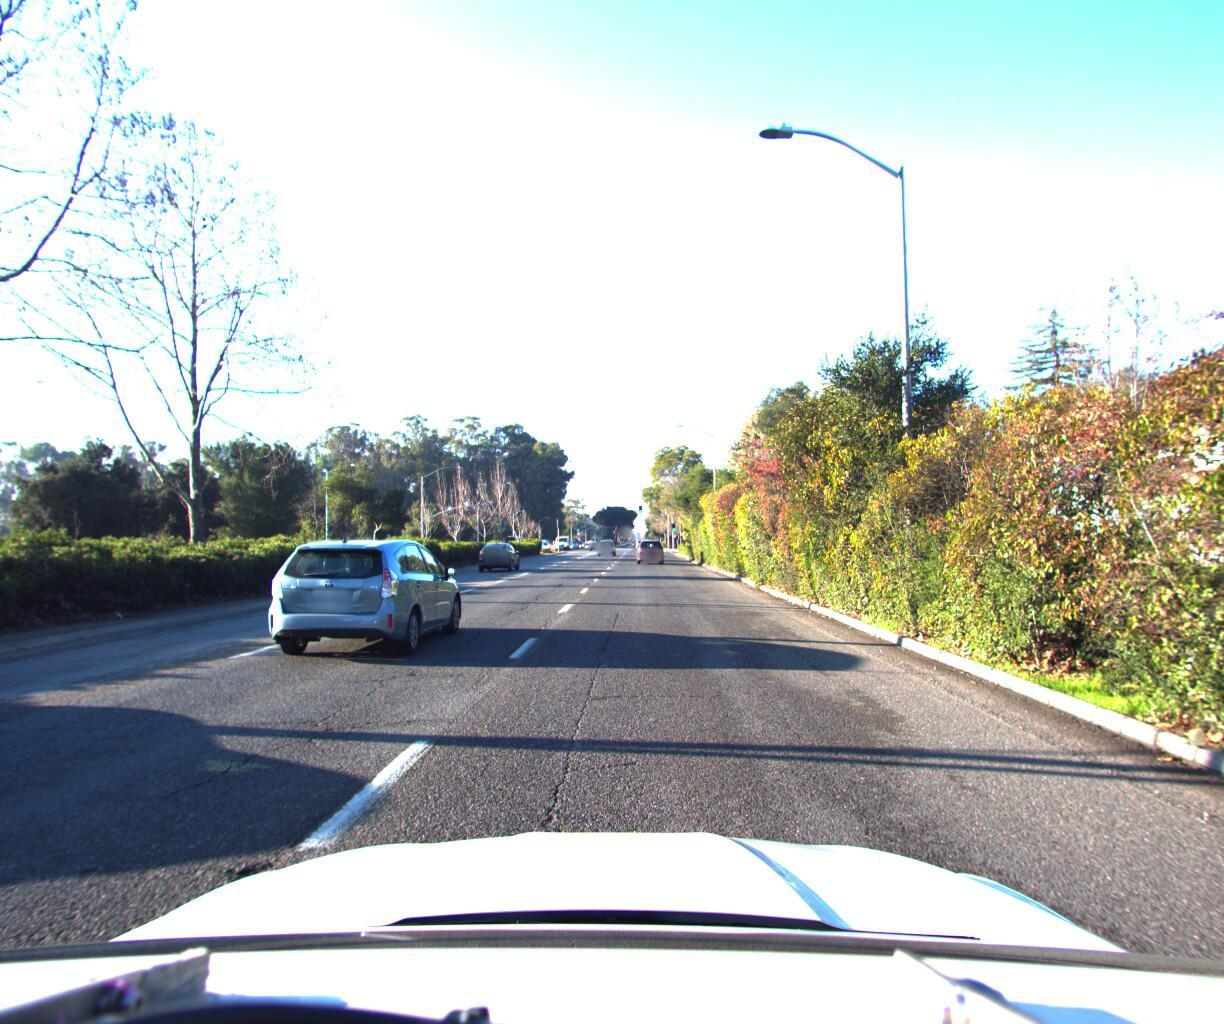car: (268, 528, 471, 660), (474, 536, 521, 567), (634, 534, 662, 559), (598, 533, 618, 551)
